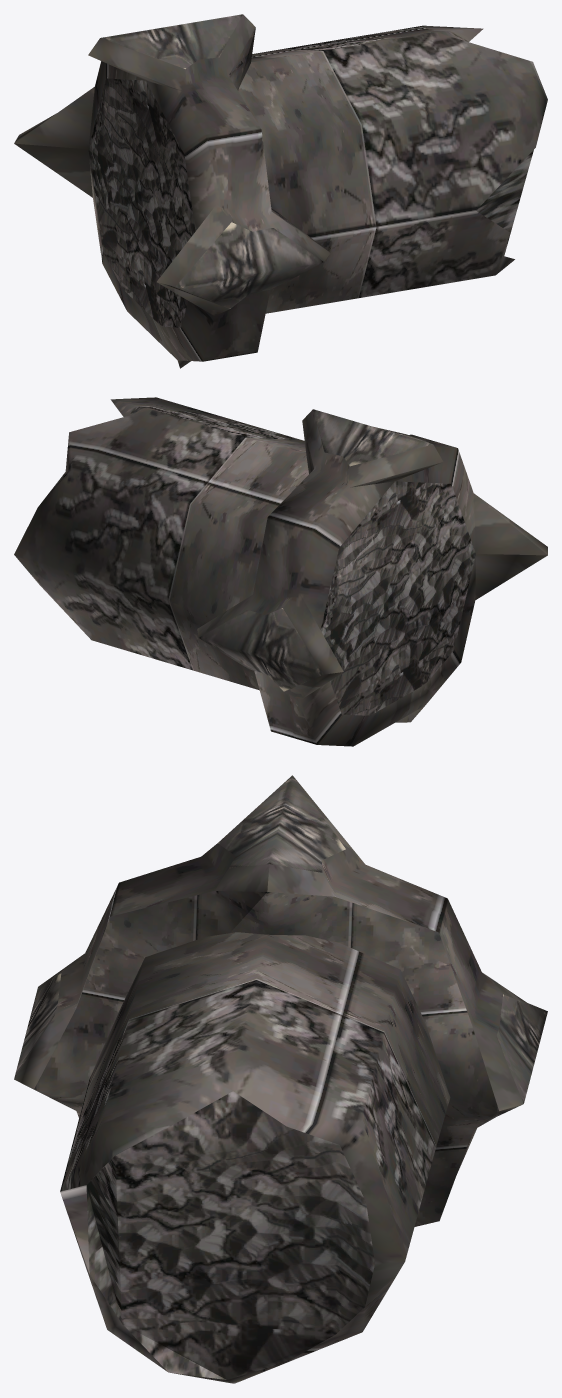
Rendered from INST_SM_COLUMN_BROKEN_PIECEC.obj.
3 views of the same model, one above another, from view 1: azimuth 30°, elevation 25°; view 2: azimuth 150°, elevation 25°; view 3: azimuth 270°, elevation 25° (orthographic). The views are drawn at different scales.
Parts seen in each view (by area): view 1: broken piece c; view 2: broken piece c; view 3: broken piece c.
Boxes of the visible parts, x1,y1,x2,y2 form: broken piece c: (14, 14, 547, 368); broken piece c: (14, 397, 547, 746); broken piece c: (14, 775, 547, 1383).
Size of the model in its own units: 431 by 311 by 355.
